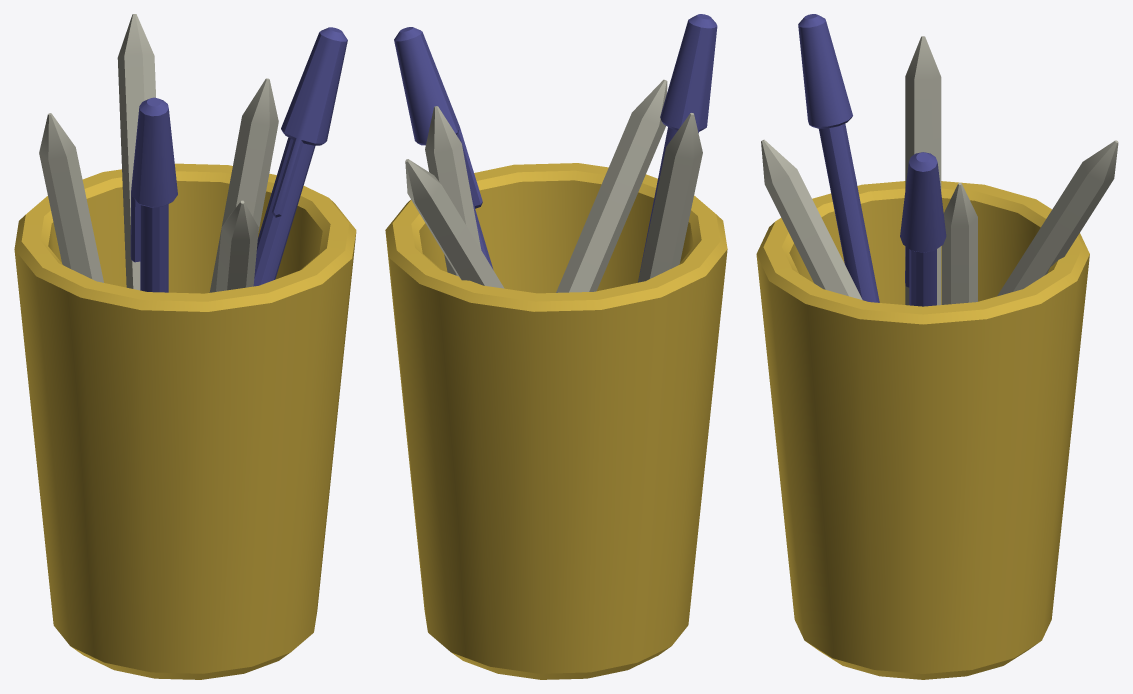
File: SM_Pencil_Cup_Full.fbx
The picture shows the model from 3 angles, left to right: view 1: azimuth 30°, elevation 25°; view 2: azimuth 150°, elevation 25°; view 3: azimuth 270°, elevation 25°; orthographic projection. The views are drawn at different scales.
Parts seen in each view (by area): view 1: SM_Pen1; view 2: SM_Pen1; view 3: SM_Pen1.
Boxes of the visible parts, x1,y1,x2,y2 form: SM_Pen1: (14, 14, 356, 679); SM_Pen1: (385, 14, 727, 679); SM_Pen1: (756, 14, 1118, 679).
Bounding box in the file's own units: 13.88 × 25.47 × 14.54.
